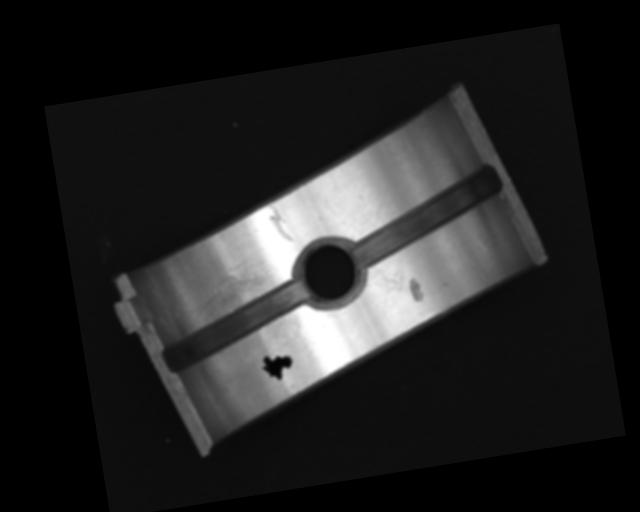blot: (260, 351, 296, 383)
bruise: (408, 275, 425, 303)
gap: (342, 165, 509, 268), (156, 282, 314, 374)
hole: (291, 238, 363, 311)
nick: (267, 200, 294, 245)
scratch: (185, 264, 279, 322)
